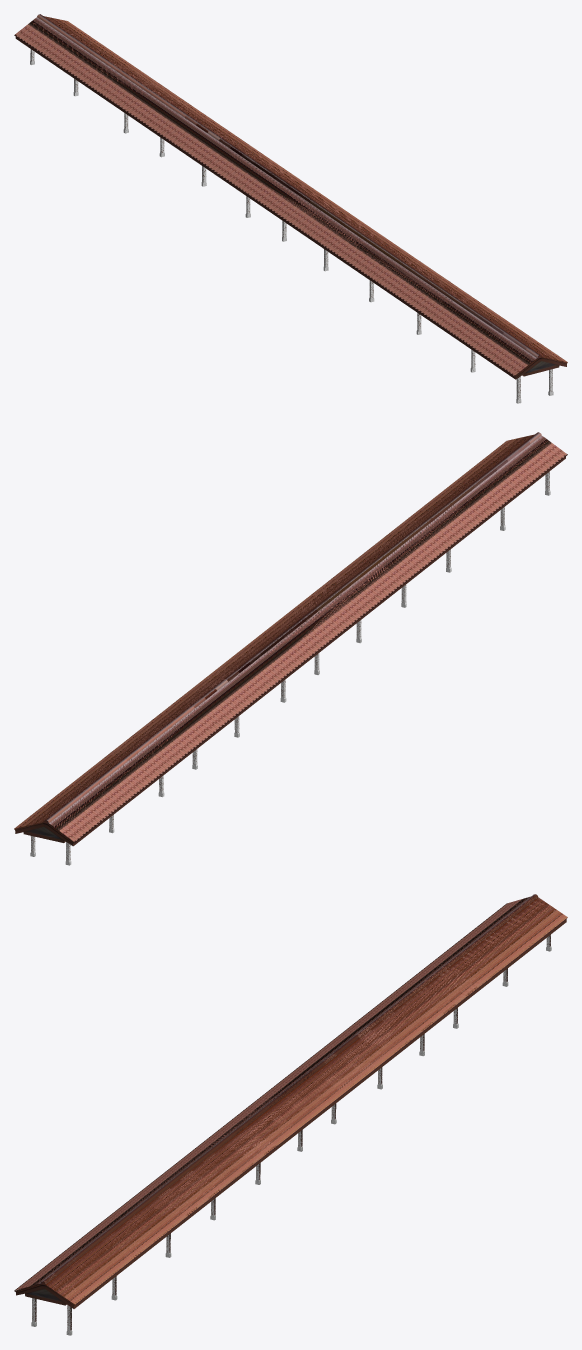
Rendered from shelter.fbx.
The picture shows the model from 3 angles, top to bottom: view 1: azimuth 30°, elevation 25°; view 2: azimuth 150°, elevation 25°; view 3: azimuth 330°, elevation 25°; orthographic projection. The views are drawn at different scales.
Visible parts, largest first — view 1: Group1; view 2: Group1; view 3: Group1.
Part boxes in pixels (x1,y1,x2,y2): Group1: (14,14,567,379); Group1: (14,432,567,846); Group1: (14,894,567,1308).
Bounding box in the file's own units: 228 × 133 × 2343.
